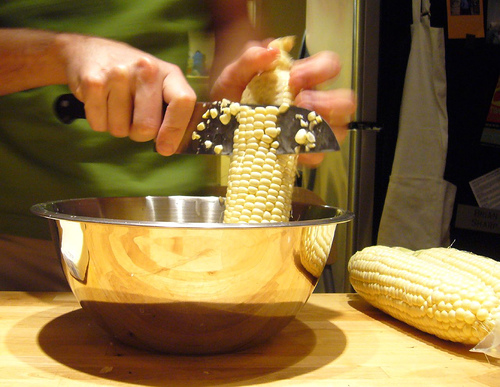corn: (220, 35, 303, 227), (347, 245, 498, 344), (393, 237, 499, 295)
